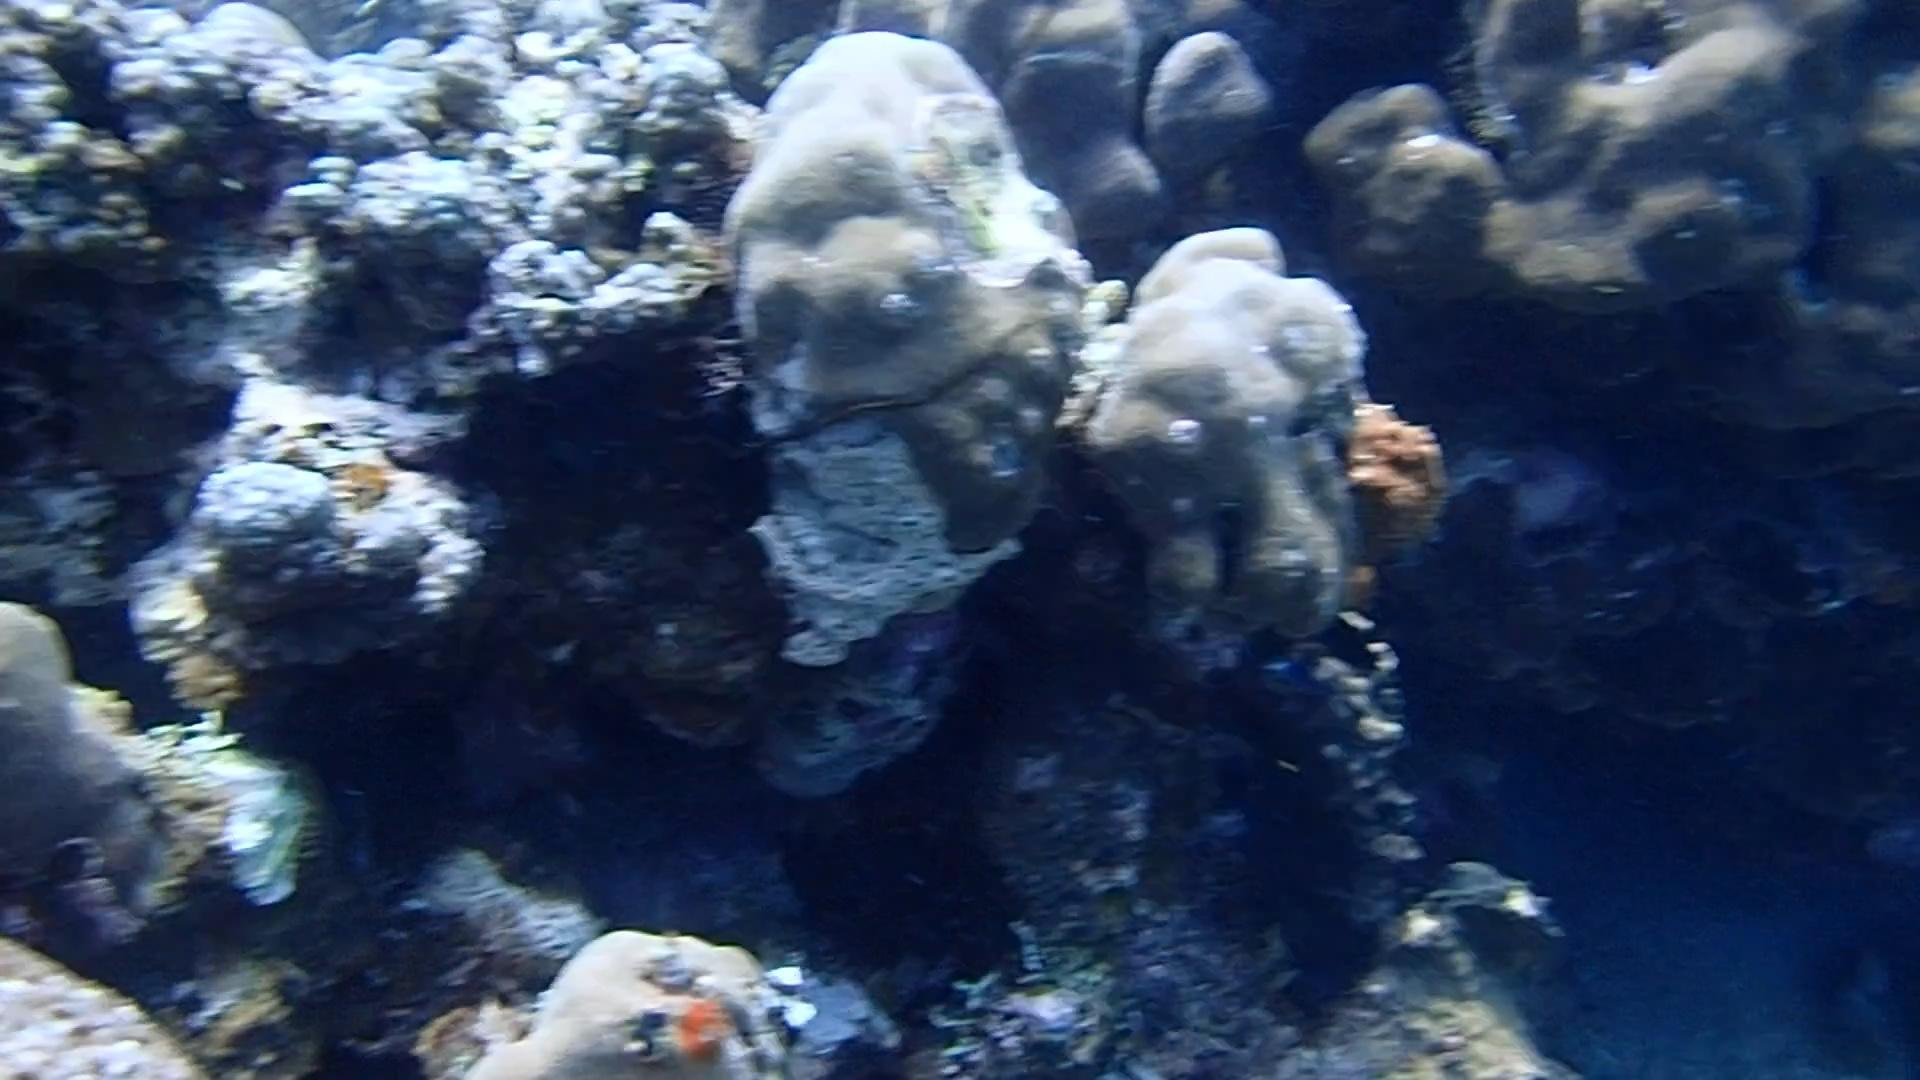Dark Fish: (1312, 608, 1389, 686)
